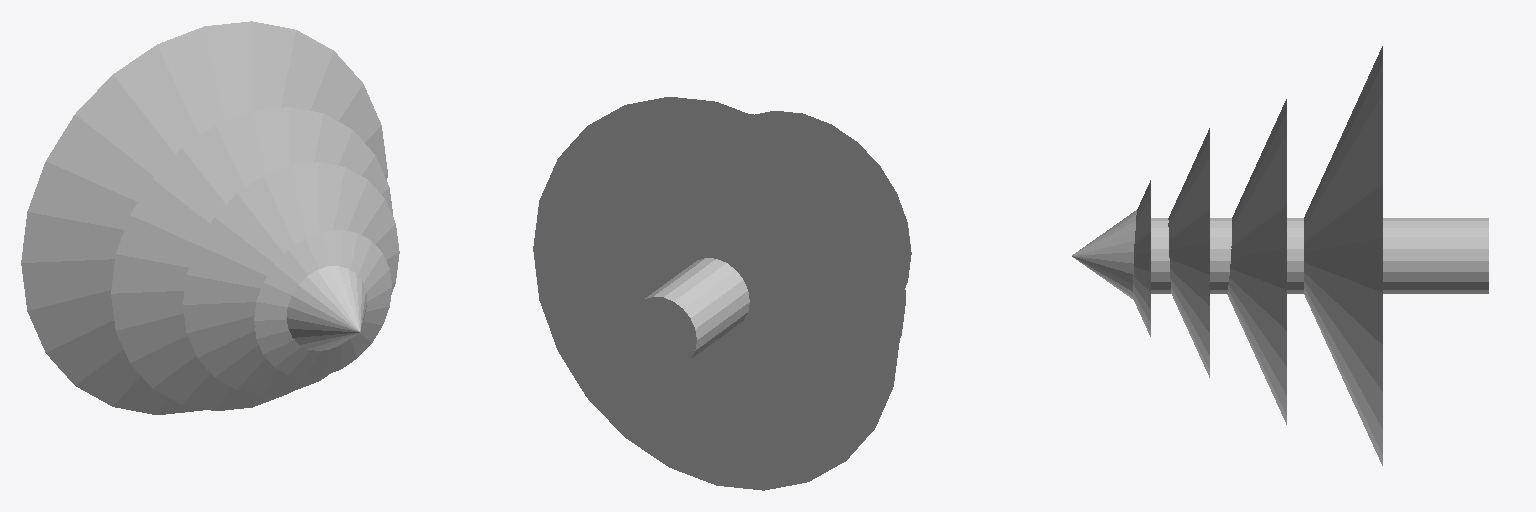
Rendered from future_tree.obj.
3 views of the same model, side by side, from view 1: azimuth 30°, elevation 25°; view 2: azimuth 150°, elevation 25°; view 3: azimuth 270°, elevation 25° (orthographic).
Parts seen in each view (by area): view 1: obj_0; view 2: obj_0; view 3: obj_0.
Boxes of the visible parts, box(x1,y1,x2,y2) form: obj_0: box(21, 21, 399, 414); obj_0: box(533, 97, 911, 490); obj_0: box(1072, 46, 1488, 465).
Bounding box in the file's own units: 18 × 18 × 17.74.